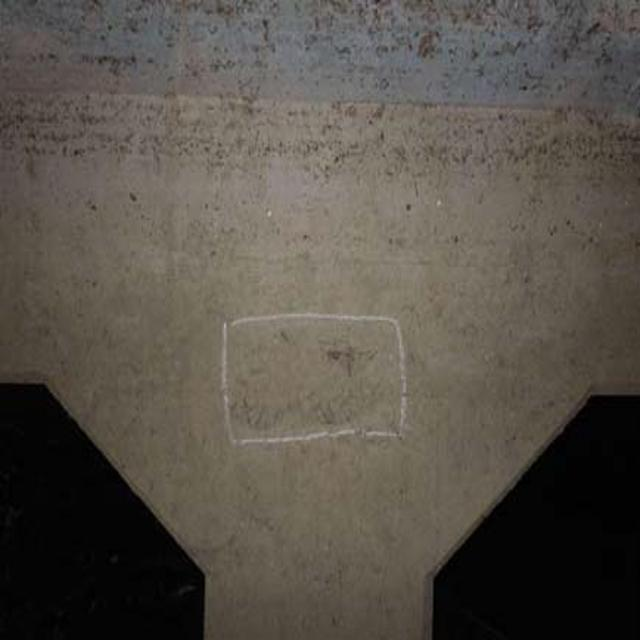spalling: (234, 329, 400, 440)
